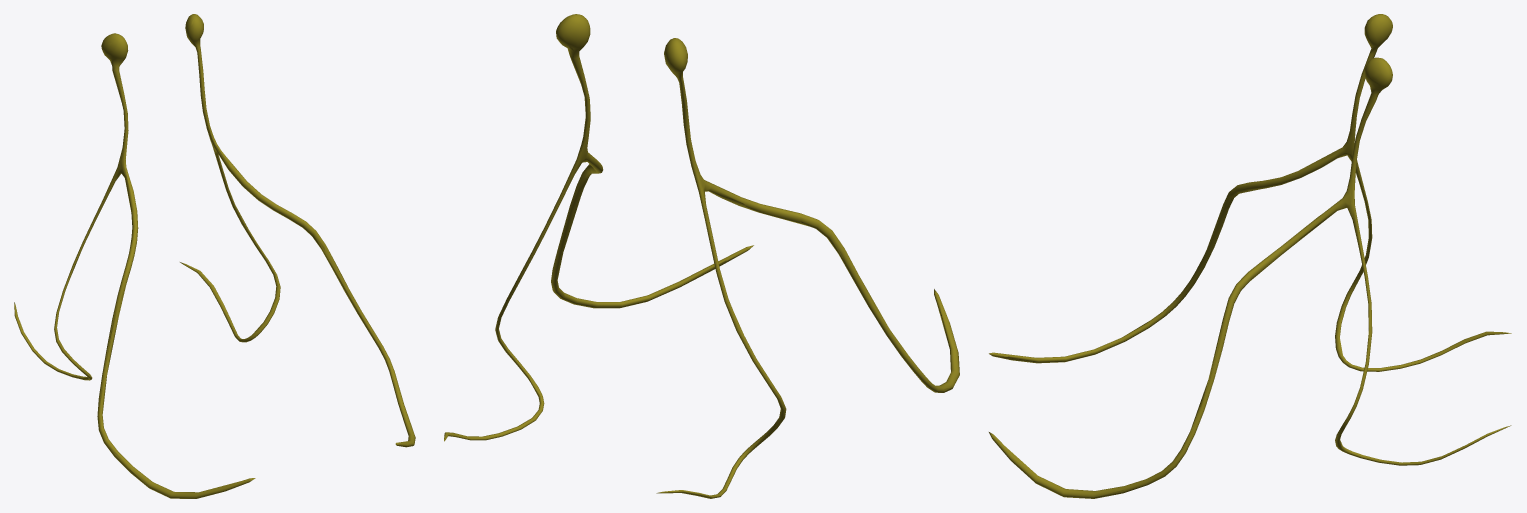
File: nodi lymphoidei mamarii.fbx
The picture shows the model from 3 angles, left to right: view 1: azimuth 30°, elevation 25°; view 2: azimuth 150°, elevation 25°; view 3: azimuth 270°, elevation 25°; orthographic projection. The views are drawn at different scales.
Parts seen in each view (by area): view 1: nodi lymphoidei mamarii, nodi lymphoidei mamarii low; view 2: nodi lymphoidei mamarii, nodi lymphoidei mamarii low; view 3: nodi lymphoidei mamarii, nodi lymphoidei mamarii low.
Part boxes in pixels (x1,y1,x2,y2): nodi lymphoidei mamarii: (14,14,415,498); nodi lymphoidei mamarii low: (61,20,411,498); nodi lymphoidei mamarii: (444,14,959,498); nodi lymphoidei mamarii low: (498,17,954,497); nodi lymphoidei mamarii: (989,14,1511,498); nodi lymphoidei mamarii low: (994,19,1505,497).
Size of the model in its own units: 17 by 19.22 by 23.24.
